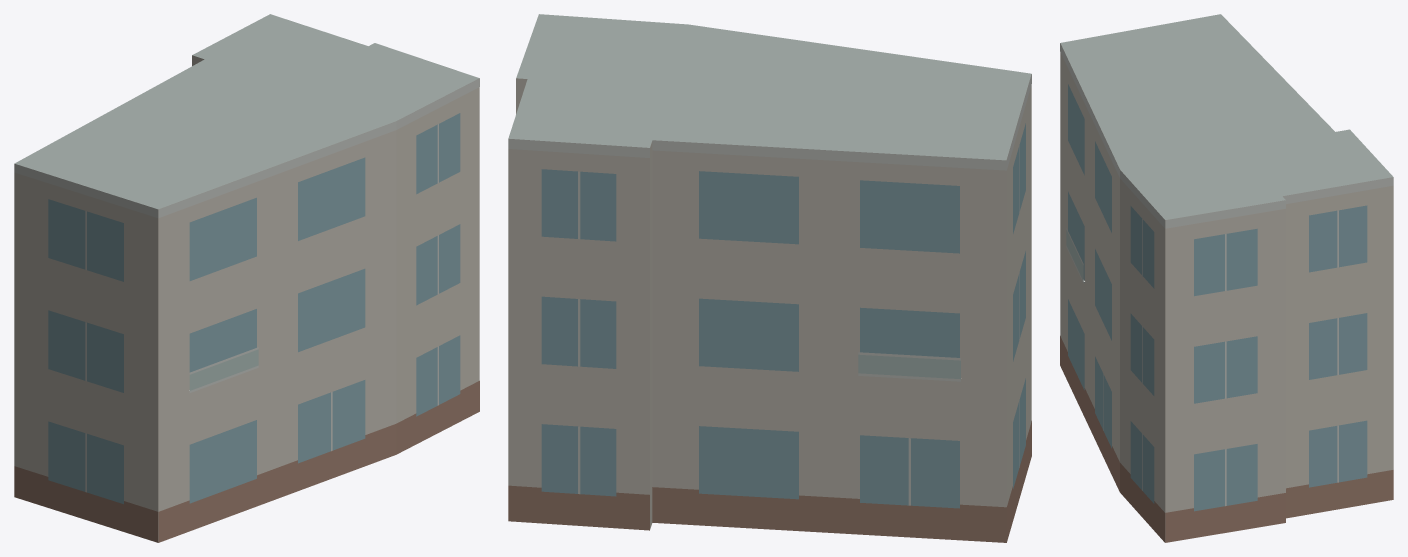
Rendered from survey-upis-32491136.glb.
3 views of the same model, side by side, from view 1: azimuth 30°, elevation 25°; view 2: azimuth 150°, elevation 25°; view 3: azimuth 270°, elevation 25° (orthographic). The views are drawn at different scales.
Parts seen in each view (by area): view 1: survey-upis-32491136.tmp; view 2: survey-upis-32491136.tmp; view 3: survey-upis-32491136.tmp.
Boxes of the visible parts, x1,y1,x2,y2 form: survey-upis-32491136.tmp: (14,14,479,542); survey-upis-32491136.tmp: (508,14,1031,542); survey-upis-32491136.tmp: (1060,14,1393,542).
Size of the model in its own units: 12.55 by 9.15 by 8.58.
